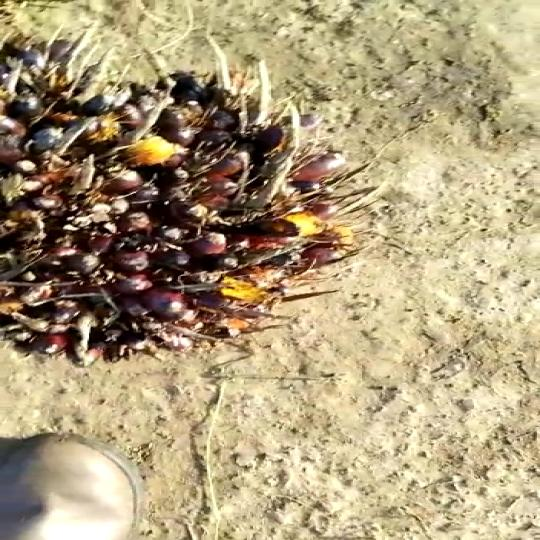masak: (0, 25, 364, 377)
